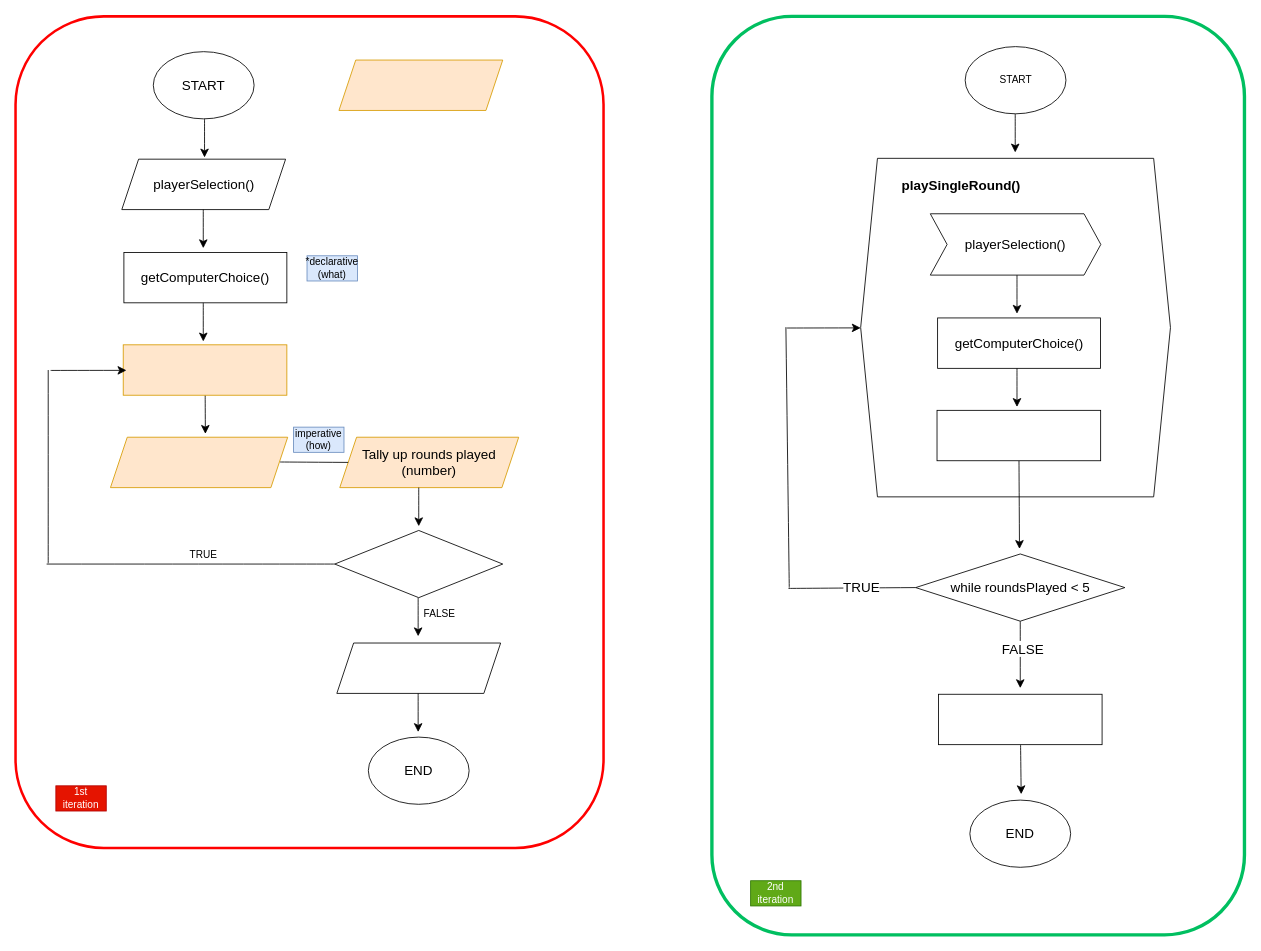
This 1261x951 diagram has some shape labels left out. Here are the shapes that lost their labels. From the top down, the centre of each, then its label:
pixel 420 84: playSingleRound(....)
pixel 204 369: playSingleRound(playerSelection, getComputerChoice)
pixel 1018 435: determineWinner()
pixel 199 462: Print ROUND outcome (string)
pixel 418 564: if roundsPlayed < 5
pixel 418 667: Print GAME outcome (string)
pixel 1020 719: declareChampion()
